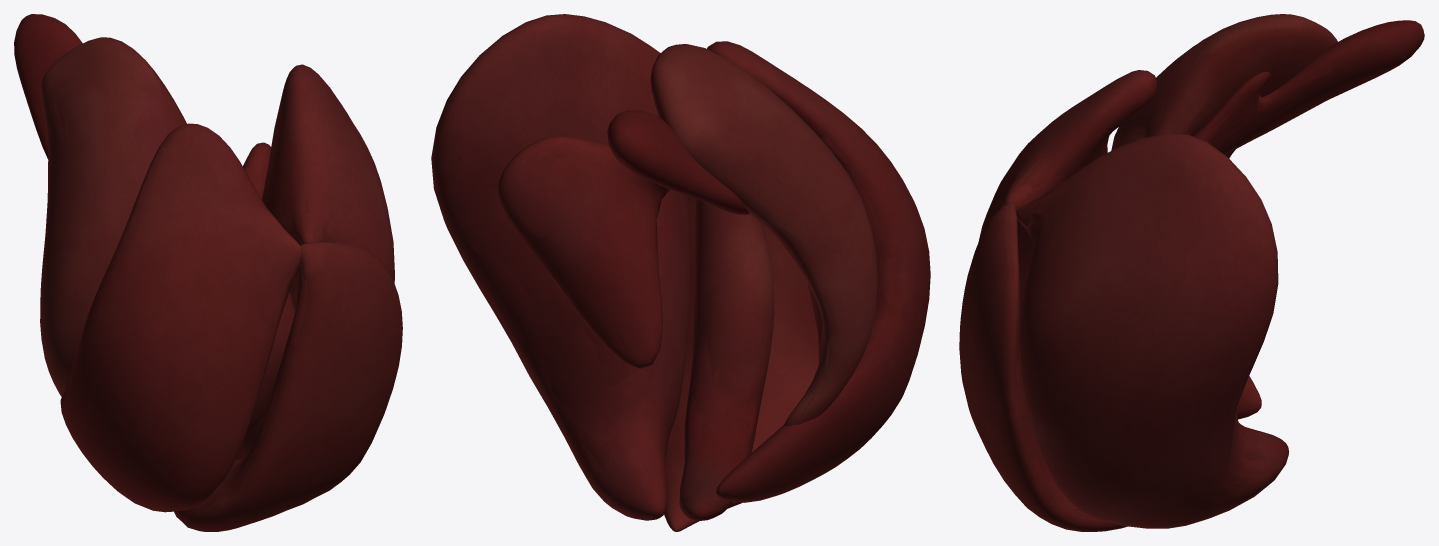
File: Liver.fbx
3 renders of one model, left to right at view 1: azimuth 30°, elevation 25°; view 2: azimuth 150°, elevation 25°; view 3: azimuth 270°, elevation 25°, orthographic. The views are drawn at different scales.
Visible parts, largest first — view 1: Liver high, Liver, Liver low; view 2: Liver high, Liver, Liver low; view 3: Liver high, Liver, Liver low.
Part boxes in pixels (bbox=[...]): Liver high: bbox=[14, 14, 402, 531]; Liver: bbox=[14, 15, 402, 530]; Liver low: bbox=[51, 106, 337, 497]; Liver high: bbox=[431, 14, 930, 531]; Liver: bbox=[432, 14, 929, 531]; Liver low: bbox=[465, 138, 893, 521]; Liver high: bbox=[959, 14, 1424, 531]; Liver: bbox=[959, 14, 1423, 531]; Liver low: bbox=[997, 86, 1313, 510].
Bounding box in the file's own units: 20.74 × 25.07 × 22.35.
1 material, 1 textured.
